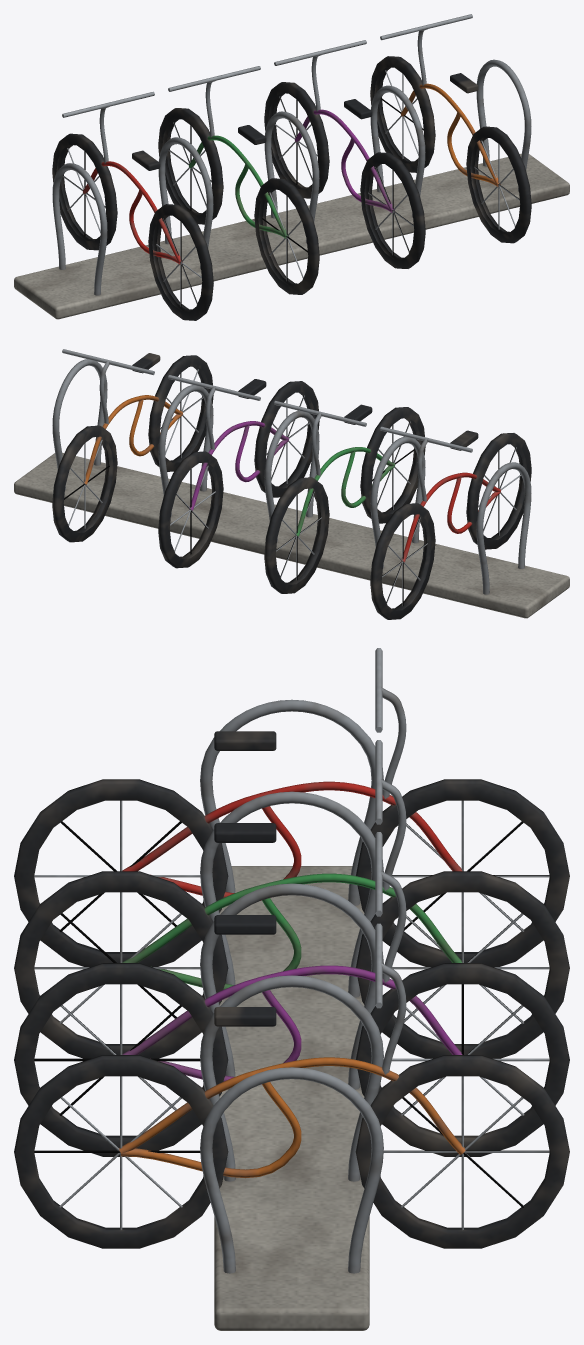
File: ulica_rowery.glb
The picture shows the model from 3 angles, top to bottom: view 1: azimuth 30°, elevation 25°; view 2: azimuth 150°, elevation 25°; view 3: azimuth 270°, elevation 25°; orthographic projection. The views are drawn at different scales.
Parts seen in each view (by area): view 1: Rowery; view 2: Rowery; view 3: Rowery.
Part boxes in pixels (x1,y1,x2,y2): Rowery: [14, 14, 569, 320]; Rowery: [14, 349, 569, 619]; Rowery: [14, 648, 569, 1330].
Bounding box in the file's own units: 3.4 × 1.01 × 1.79.
Materials: 1 (1 with a texture image).
